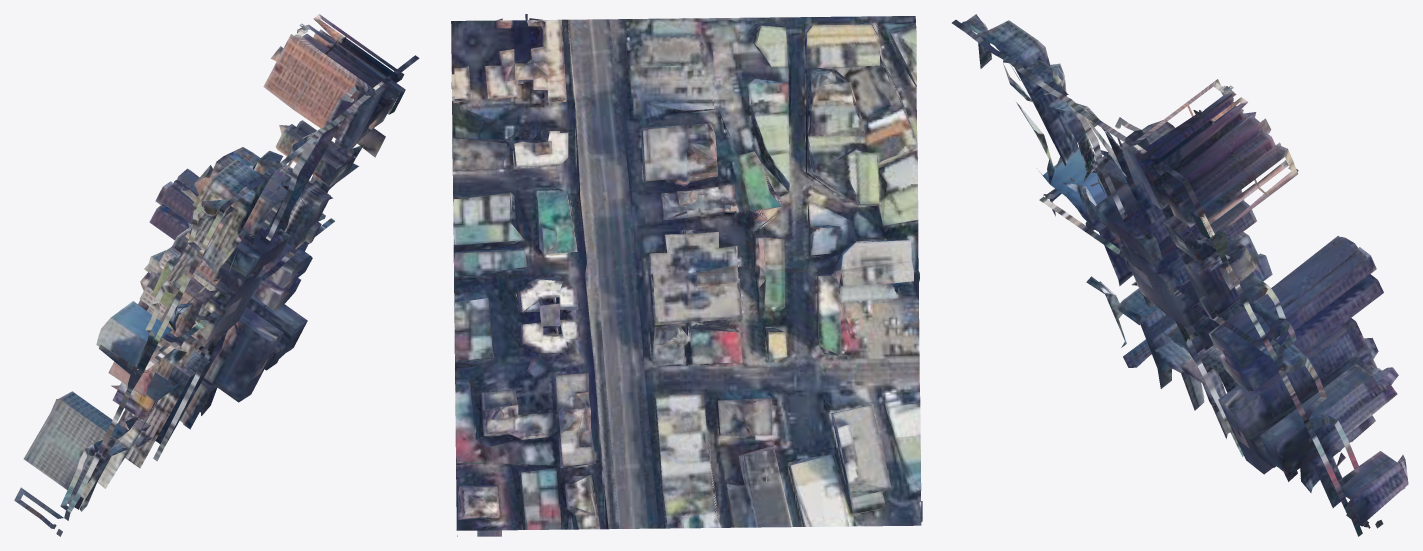
3 views of the same model, side by side, from view 1: azimuth 30°, elevation 25°; view 2: azimuth 150°, elevation 25°; view 3: azimuth 270°, elevation 25° (orthographic). The views are drawn at different scales.
Bounding box in the file's own units: 322 × 307 × 286.
2 materials, 2 textured.
